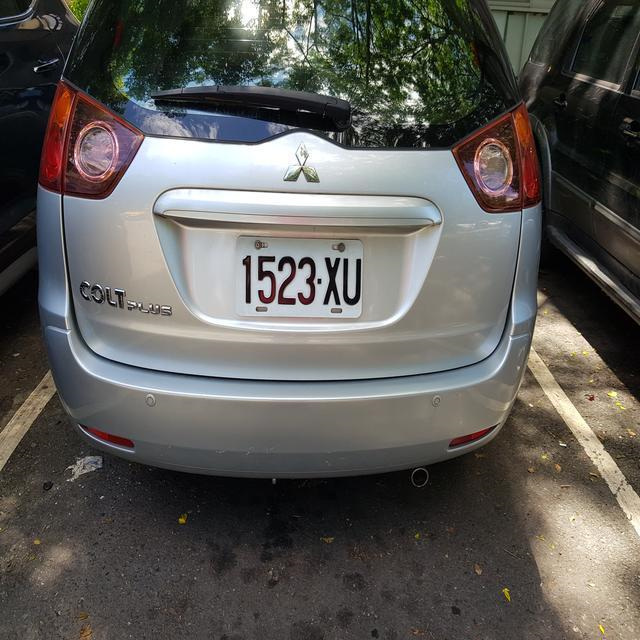license: (236, 237, 366, 318)
